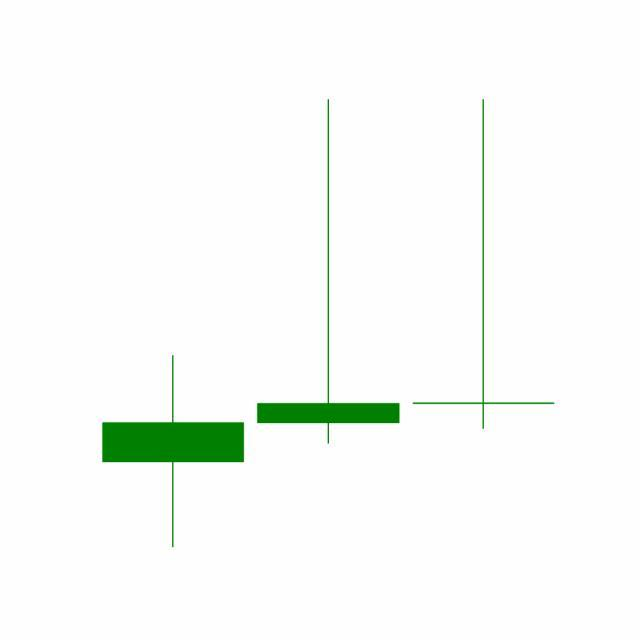Gravestone Doji: (250, 96, 407, 448)
